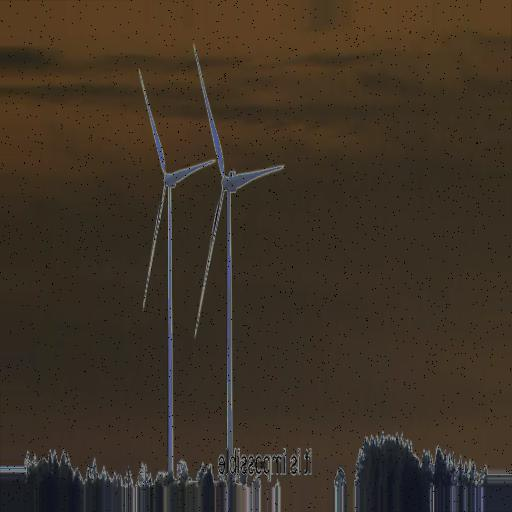wind turbine: (192, 44, 287, 478), (137, 69, 215, 474)
